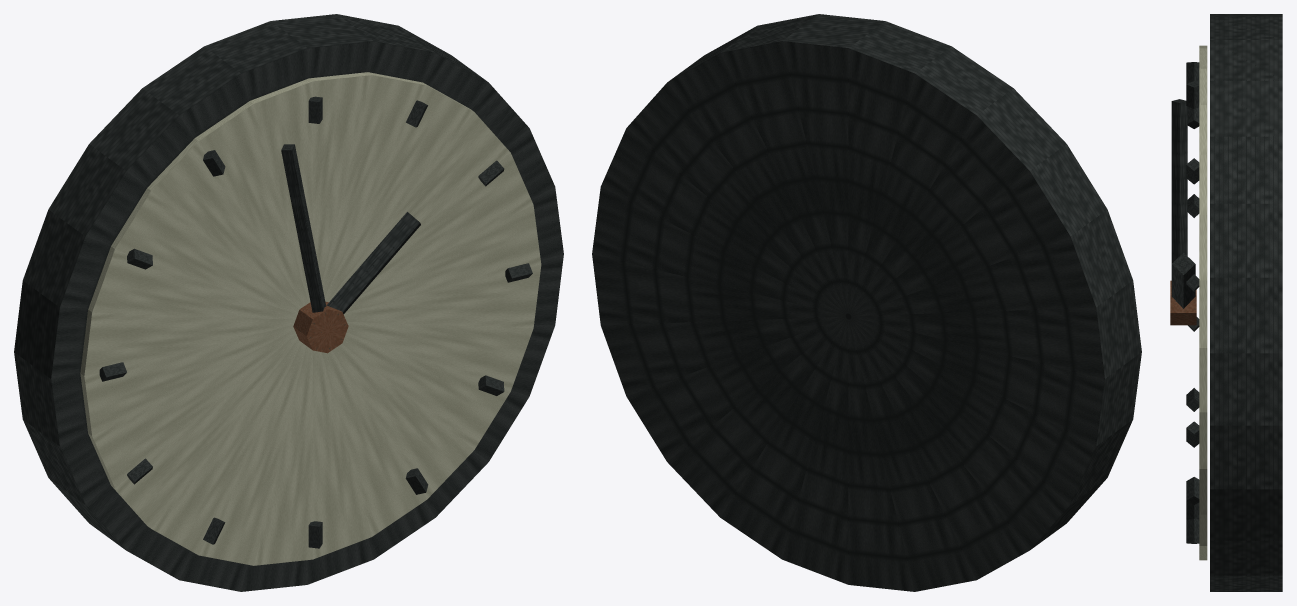
The model's file is WallClock.obj.
The picture shows the model from 3 angles, left to right: view 1: azimuth 30°, elevation 25°; view 2: azimuth 150°, elevation 25°; view 3: azimuth 270°, elevation 25°; orthographic projection. The views are drawn at different scales.
Visible parts, largest first — view 1: WallClock; view 2: WallClock; view 3: WallClock.
Boxes of the visible parts, left/top/right/bottom form: WallClock: left=14, top=14, right=563, bottom=591; WallClock: left=592, top=14, right=1141, bottom=591; WallClock: left=1170, top=14, right=1282, bottom=591.
Bounding box in the file's own units: 0.44 × 0.44 × 0.085.
3 materials, 3 textured.
